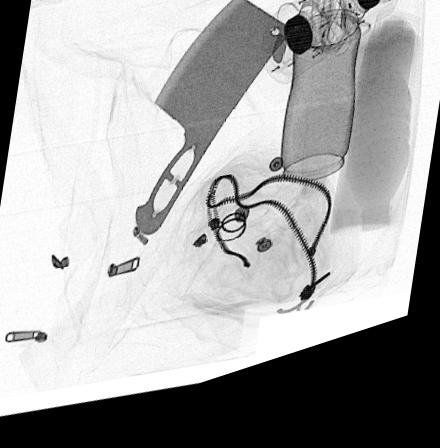Knife: (135, 6, 294, 247)
